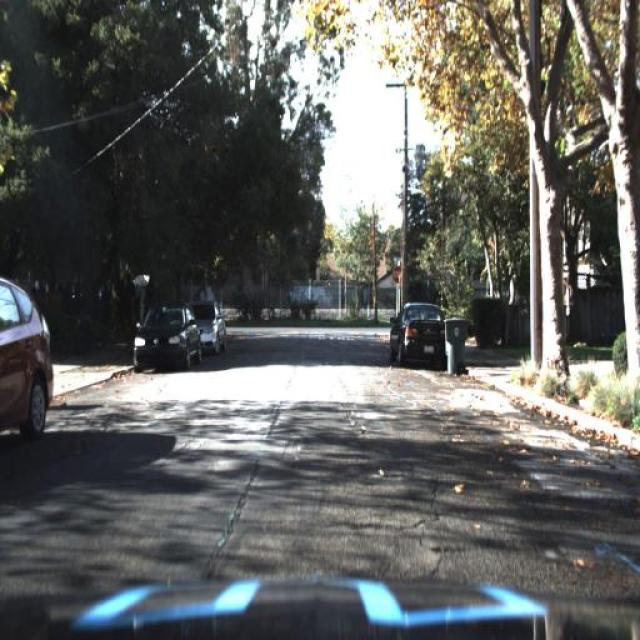car: (0, 271, 56, 449), (129, 302, 202, 372), (384, 298, 450, 374), (194, 297, 228, 353), (200, 297, 226, 353)
